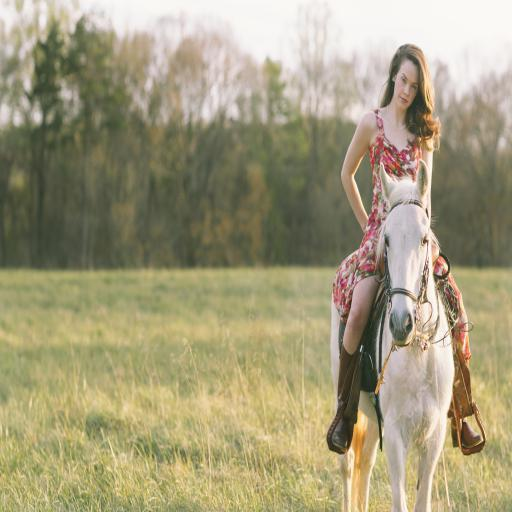Horse: (330, 162, 455, 512)
